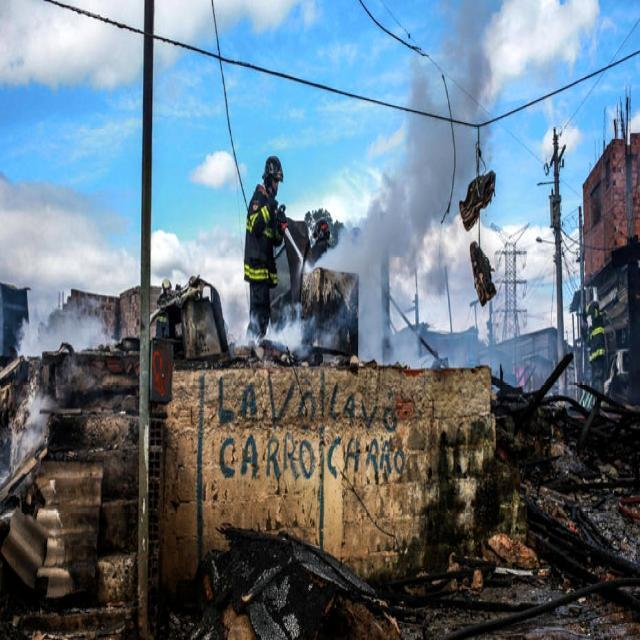Smoke: (348, 0, 524, 353)
